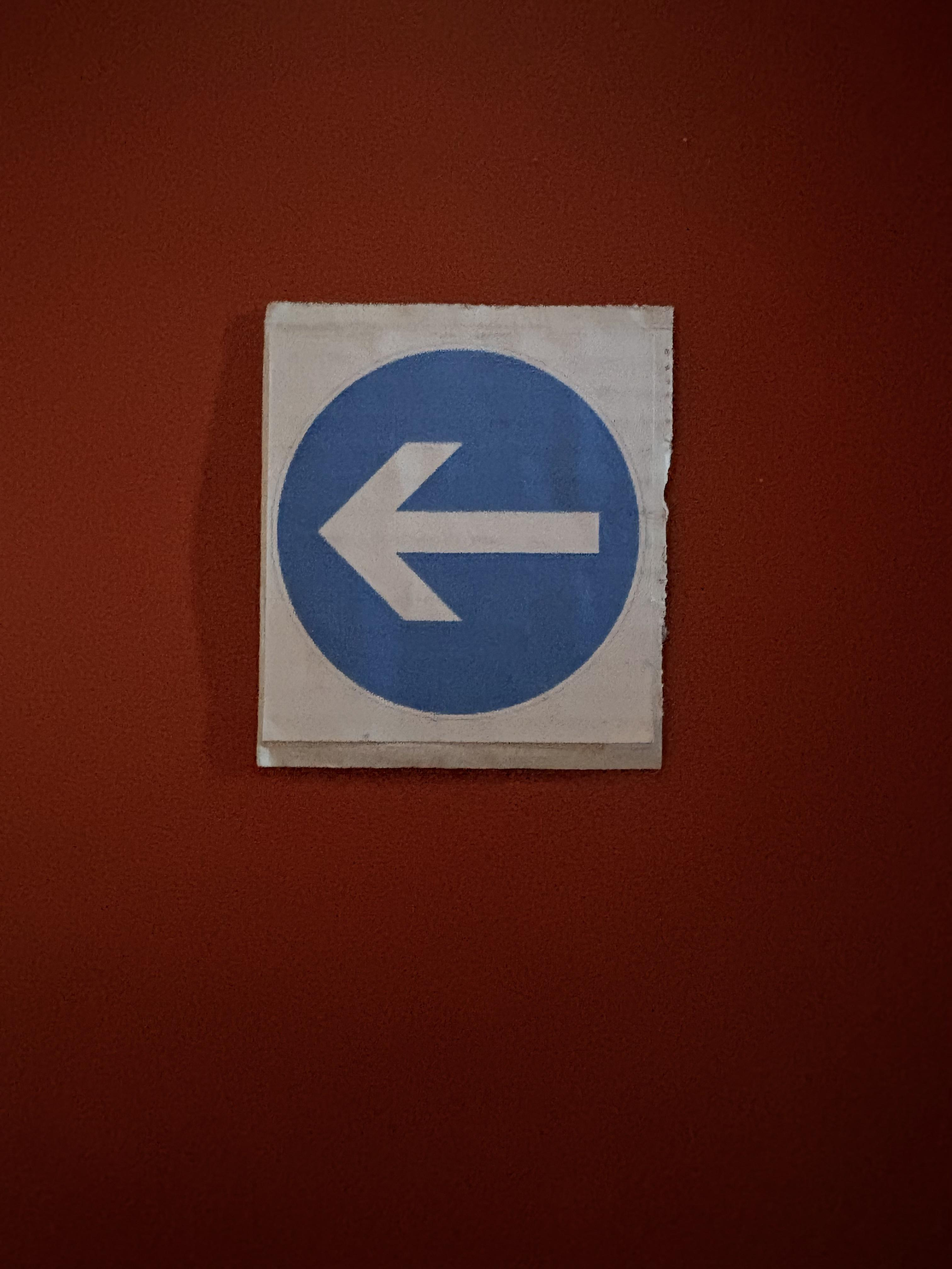Proceed Left: (259, 309, 669, 778)
